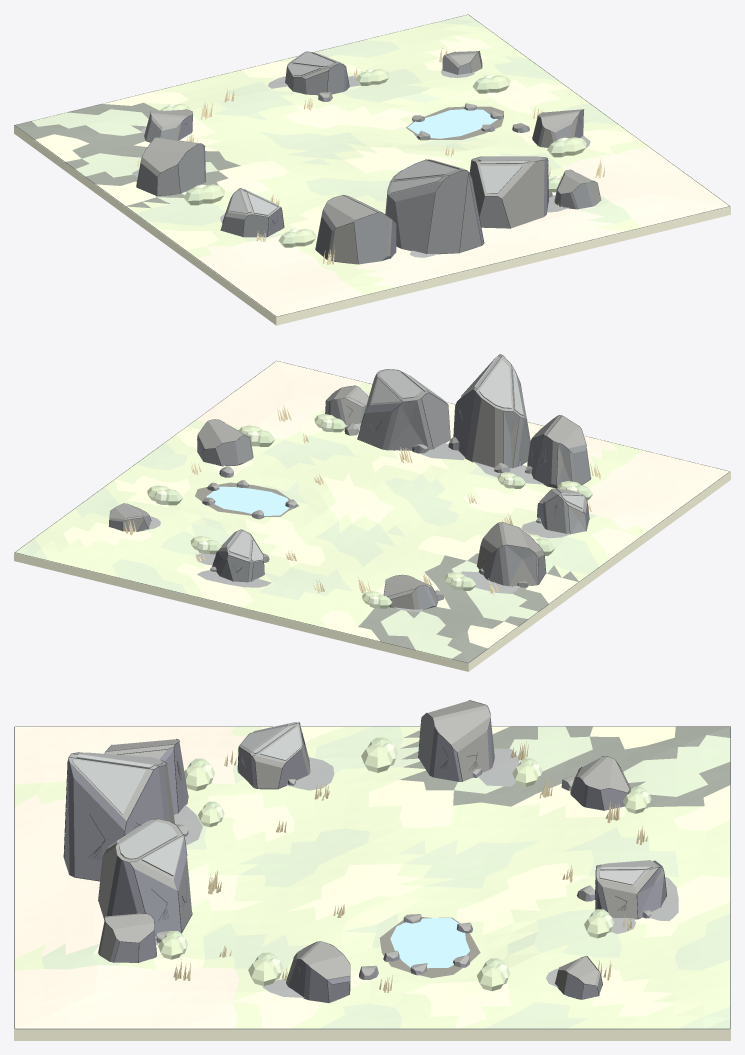
The model's file is Tundra_Rocks_v2.fbx.
The picture shows the model from 3 angles, top to bottom: view 1: azimuth 30°, elevation 25°; view 2: azimuth 150°, elevation 25°; view 3: azimuth 270°, elevation 25°; orthographic projection. The views are drawn at different scales.
Parts seen in each view (by area): view 1: Ground_Surface, Ground_SlabSides, Rock_02, Rock_01, Rock_03, Rock_06, Ink_RockEdgesAndFractures, Pond_ShallowWater, Rock_05, Rock_08, Rock_09, Ink_GroundAndShrubs (+8 smaller); view 2: Ground_Surface, Ground_SlabSides, Rock_02, Rock_03, Rock_01, Rock_06, Ink_RockEdgesAndFractures, Rock_09, Pond_ShallowWater, Rock_02_SnowCap, Rock_05, Rock_07 (+8 smaller); view 3: Ground_Surface, Ground_SlabSides, Rock_02, Rock_03, Rock_06, Ink_RockEdgesAndFractures, Pond_ShallowWater, Rock_09, Rock_08, Rock_02_SnowCap, Ink_GroundAndShrubs, Rock_04 (+15 smaller).
Boxes of the visible parts, x1,y1,x2,y2 form: Ground_Surface: (14, 14, 730, 317); Ground_SlabSides: (14, 125, 730, 325); Rock_02: (385, 160, 483, 253); Rock_01: (315, 195, 396, 264); Rock_03: (470, 157, 548, 228); Rock_06: (136, 137, 205, 195); Ink_RockEdgesAndFractures: (136, 51, 601, 264); Pond_ShallowWater: (407, 109, 497, 138); Rock_05: (221, 188, 283, 237); Rock_08: (285, 52, 349, 95); Rock_09: (532, 109, 583, 147); Ink_GroundAndShrubs: (15, 14, 729, 316); Ground_Surface: (14, 360, 730, 663); Ground_SlabSides: (14, 472, 730, 671); Rock_02: (453, 354, 530, 468); Rock_03: (357, 369, 450, 450); Rock_01: (527, 415, 590, 488); Rock_06: (477, 522, 545, 586); Ink_RockEdgesAndFractures: (108, 354, 591, 609); Rock_09: (197, 419, 253, 465); Pond_ShallowWater: (206, 486, 289, 515); Rock_02_SnowCap: (461, 356, 523, 415); Rock_05: (537, 489, 589, 534); Rock_07: (384, 575, 437, 609); Ground_Surface: (14, 726, 730, 1029); Ground_SlabSides: (14, 1029, 730, 1040); Rock_02: (64, 753, 174, 880); Rock_03: (98, 819, 192, 936); Rock_06: (418, 700, 494, 781); Ink_RockEdgesAndFractures: (63, 700, 666, 1002); Pond_ShallowWater: (390, 918, 469, 968); Rock_09: (286, 941, 349, 1002); Rock_08: (595, 861, 666, 918); Rock_02_SnowCap: (72, 752, 162, 814); Ink_GroundAndShrubs: (14, 726, 730, 1029); Rock_04: (98, 913, 156, 962).
Size of the model in its own units: 1700 by 321 by 1700.
